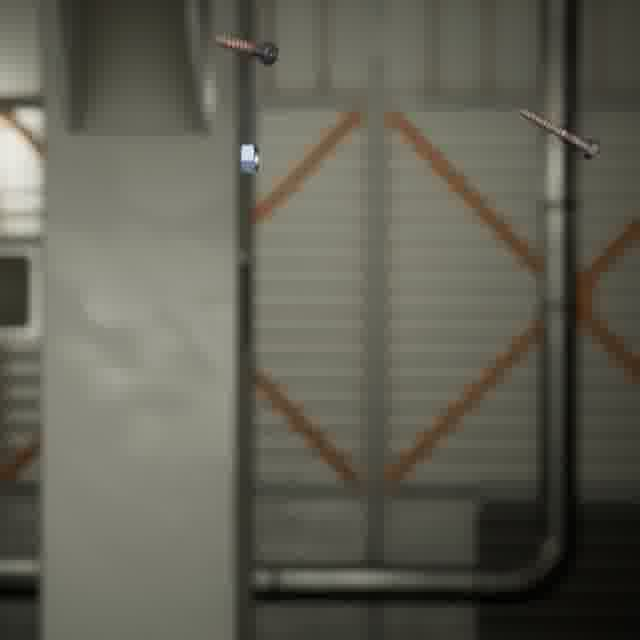bolt: (512, 103, 603, 164), (211, 30, 282, 71)
nut: (236, 138, 263, 177)
